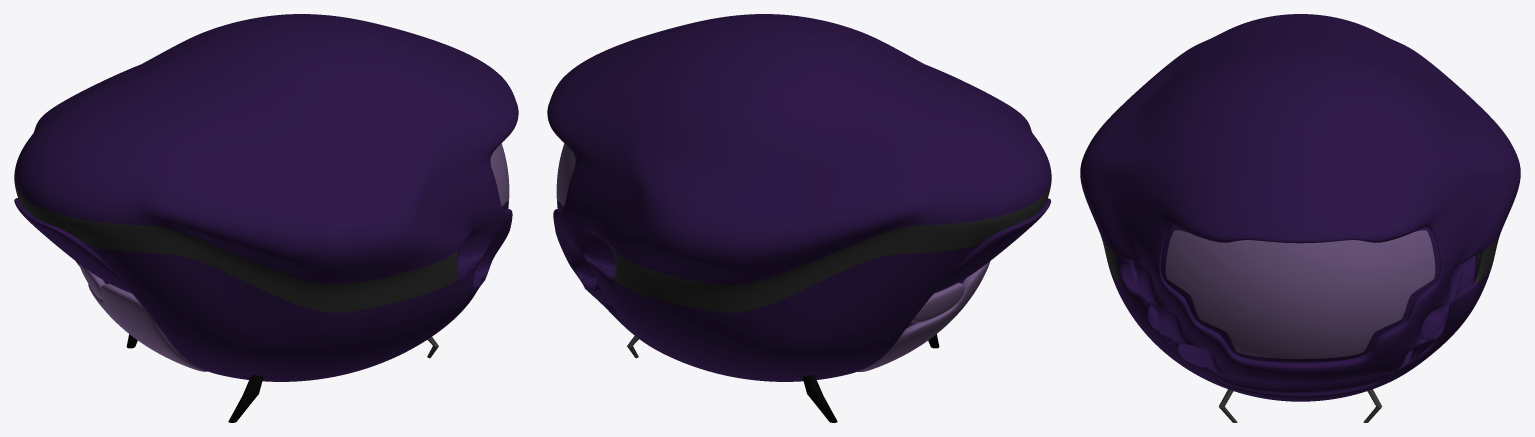
The model's file is nave para juego 3 PUERTA.fbx.
3 renders of one model, left to right at view 1: azimuth 30°, elevation 25°; view 2: azimuth 150°, elevation 25°; view 3: azimuth 270°, elevation 25°, orthographic. The views are drawn at different scales.
Visible parts, largest first — view 1: nave.001, PUERTA, patas traceras; view 2: nave.001, PUERTA, patas traceras; view 3: nave.001, patas adelante.
Boxes of the visible parts, box(x1,y1,x2,y2) form: nave.001: box(14, 14, 518, 381); PUERTA: box(14, 198, 207, 371); patas traceras: box(126, 334, 263, 422); nave.001: box(547, 14, 1051, 381); PUERTA: box(857, 198, 1051, 371); patas traceras: box(802, 334, 939, 422); nave.001: box(1080, 14, 1520, 401); patas adelante: box(1218, 389, 1382, 422).
Size of the model in its own units: 657 by 432 by 559.
